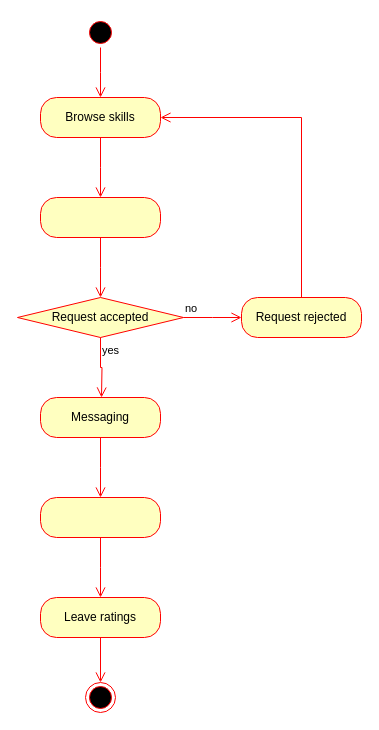
This 379x730 diagram has some shape labels left out. Each missing label, with the centre of its shape:
Complete request: (100,517)
Send request: (100,217)
